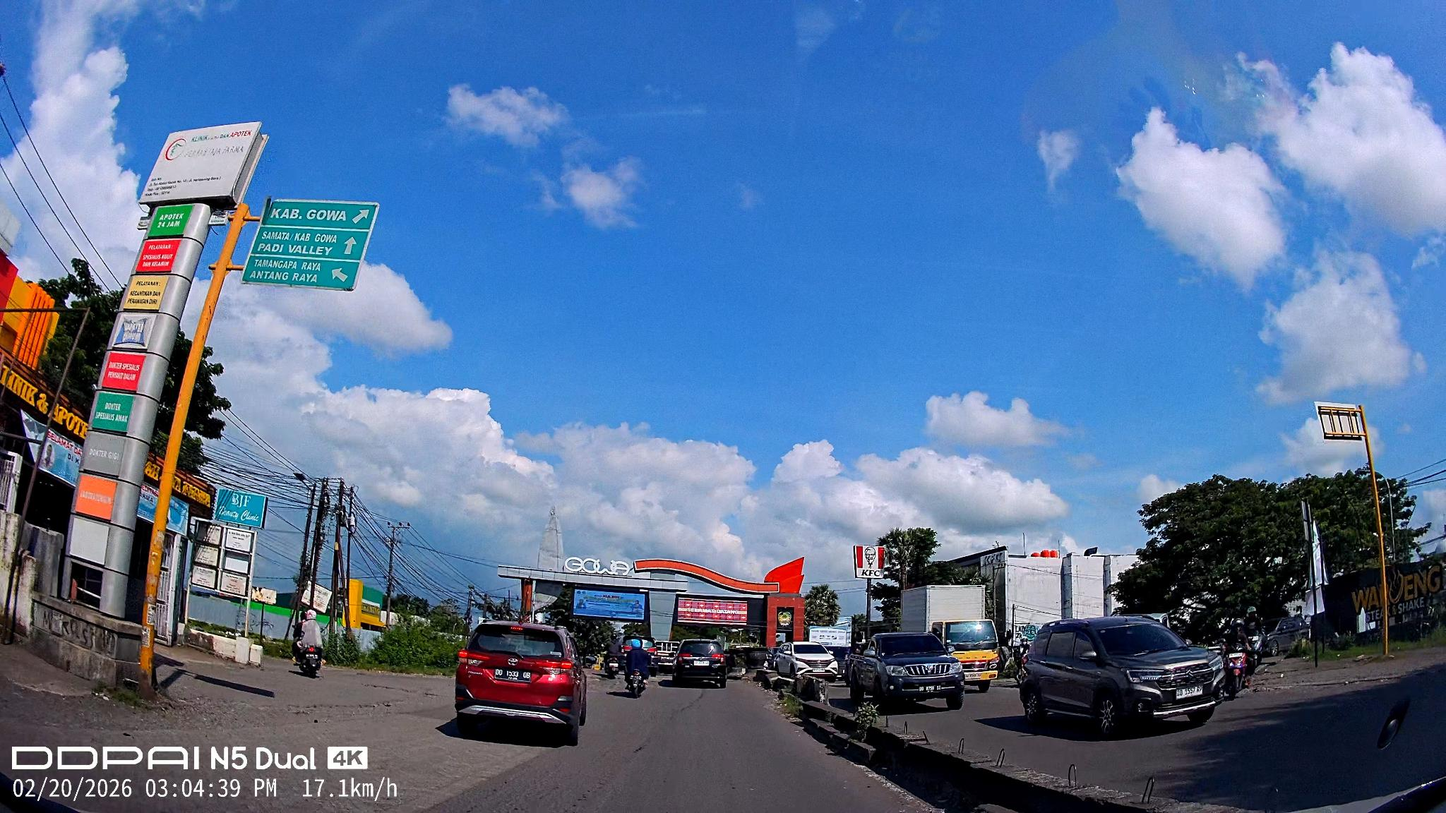rambu_teks: (241, 195, 379, 293)
